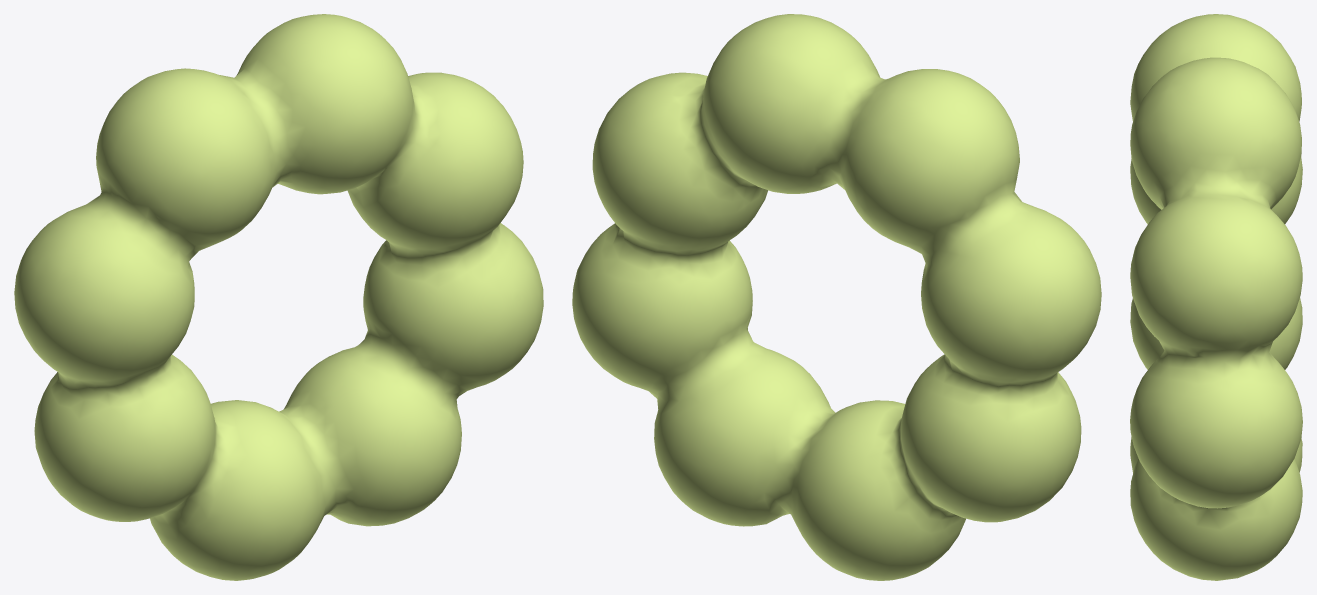
The picture shows the model from 3 angles, left to right: view 1: azimuth 30°, elevation 25°; view 2: azimuth 150°, elevation 25°; view 3: azimuth 270°, elevation 25°; orthographic projection. The views are drawn at different scales.
Parts seen in each view (by area): view 1: メタボール.019; view 2: メタボール.019; view 3: メタボール.019.
Boxes of the visible parts, x1=… form: メタボール.019: x1=14, y1=14, x2=543, y2=580; メタボール.019: x1=572, y1=14, x2=1101, y2=580; メタボール.019: x1=1130, y1=14, x2=1302, y2=580.
Size of the model in its own units: 2.81 by 2.81 by 0.8729.
